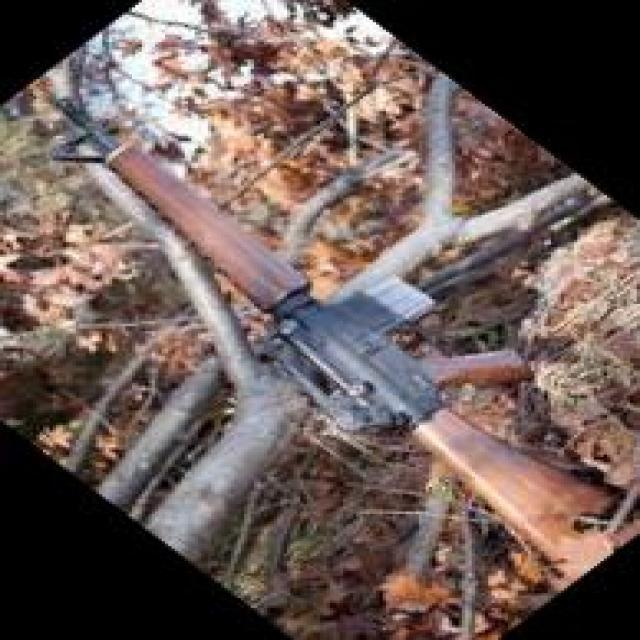weapon: (50, 93, 632, 594)
